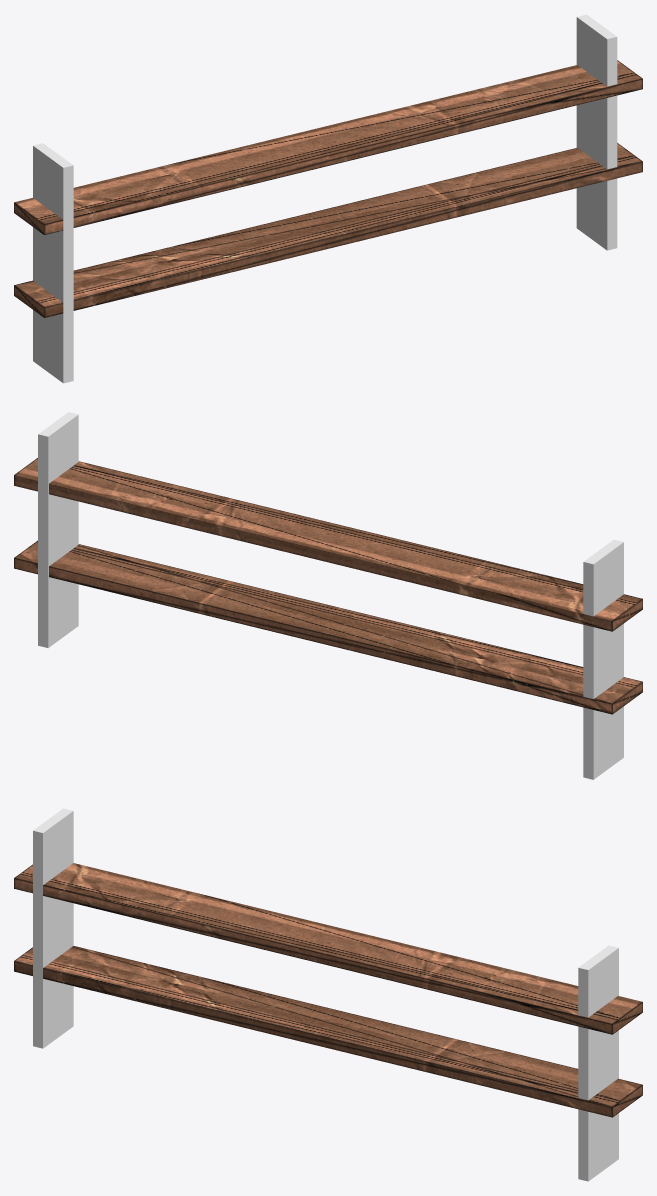
The model's file is fence.fbx.
3 views of the same model, one above another, from view 1: azimuth 30°, elevation 25°; view 2: azimuth 150°, elevation 25°; view 3: azimuth 330°, elevation 25° (orthographic).
Parts seen in each view (by area): view 1: SketchUp, ID10, ID22, ID16; view 2: SketchUp, ID10, ID22, ID16; view 3: ID10, SketchUp, ID22, ID16.
Part boxes in pixels (x1=…): SketchUp: x1=14, y1=60, x2=642, y2=235; ID10: x1=14, y1=143, x2=642, y2=317; ID22: x1=33, y1=143, x2=73, y2=383; ID16: x1=576, y1=14, x2=617, y2=250; SketchUp: x1=14, y1=458, x2=642, y2=631; ID10: x1=14, y1=540, x2=642, y2=714; ID22: x1=583, y1=539, x2=623, y2=779; ID16: x1=38, y1=412, x2=78, y2=647; ID10: x1=14, y1=946, x2=642, y2=1117; SketchUp: x1=14, y1=863, x2=642, y2=1034; ID22: x1=33, y1=808, x2=73, y2=1048; ID16: x1=578, y1=945, x2=618, y2=1181.
Bounding box in the file's own units: 430 × 149 × 38.89.
